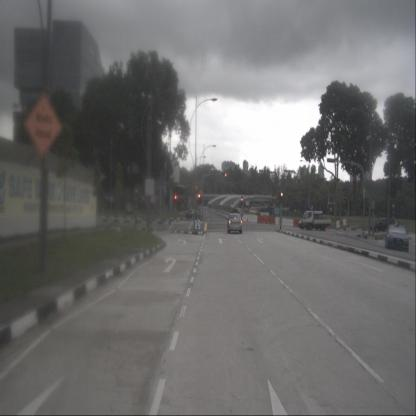movable_object-barrier: (248, 214, 258, 223), (293, 219, 304, 227), (275, 218, 285, 226), (284, 219, 294, 226), (262, 216, 270, 224), (268, 217, 275, 225), (257, 216, 264, 223), (336, 220, 341, 229), (343, 219, 347, 227), (340, 220, 344, 227), (246, 213, 249, 222), (244, 214, 247, 221)
vehicle-car: (385, 223, 409, 252), (370, 218, 396, 233), (298, 214, 322, 230), (227, 213, 242, 234), (186, 209, 202, 220)
vehicle-truck: (302, 210, 331, 231)
